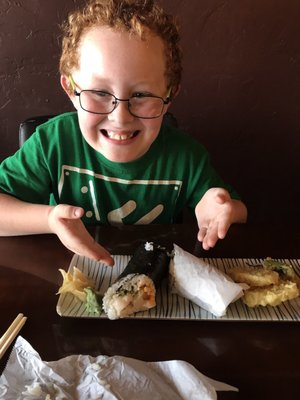curry: (0, 229, 298, 397)
